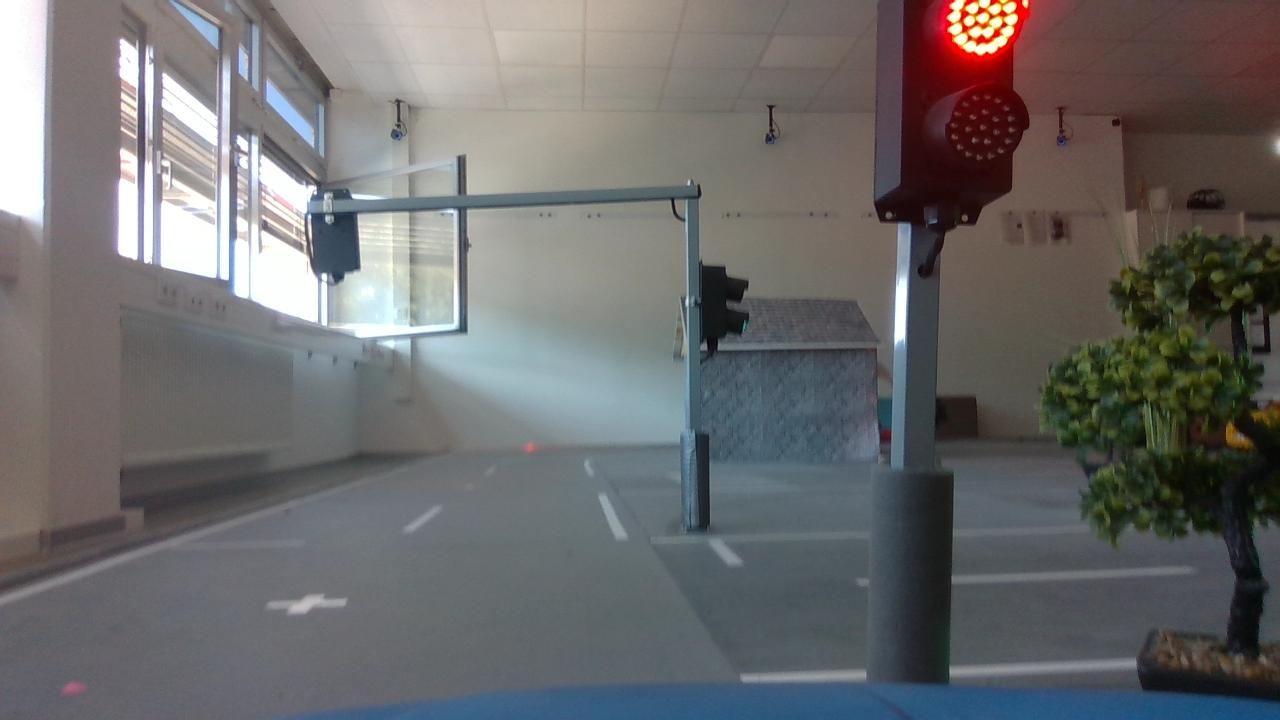traffic_light_red: (867, 1, 1040, 252)
